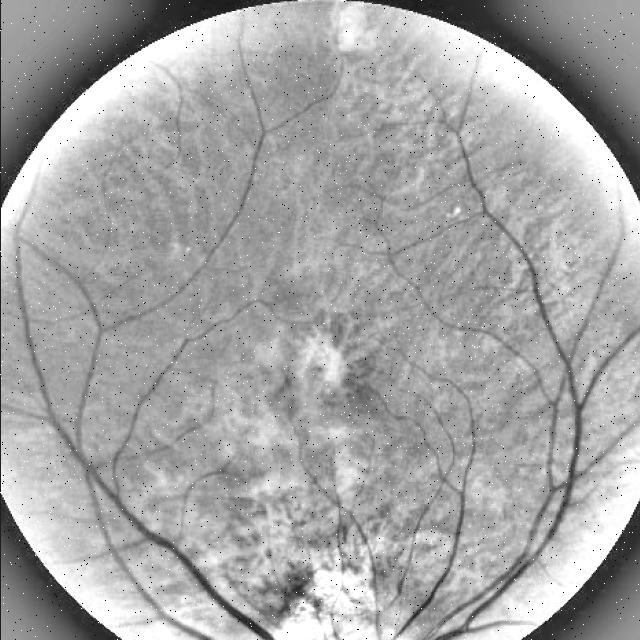Macula: (274, 320, 358, 404)
Nerves: (52, 420, 278, 640), (508, 350, 586, 584), (420, 544, 544, 640), (110, 542, 219, 640), (387, 532, 460, 640), (368, 551, 388, 640), (529, 262, 545, 316)
Optic Disk: (277, 615, 403, 640)
